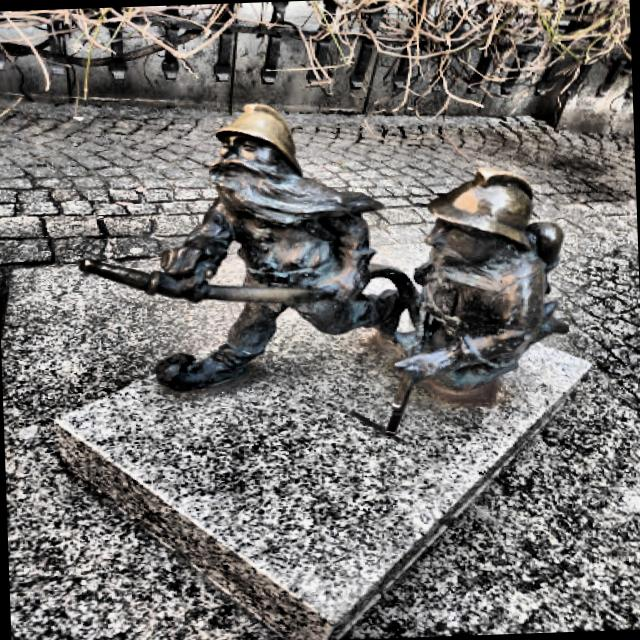Pozarki: (78, 104, 569, 434)
